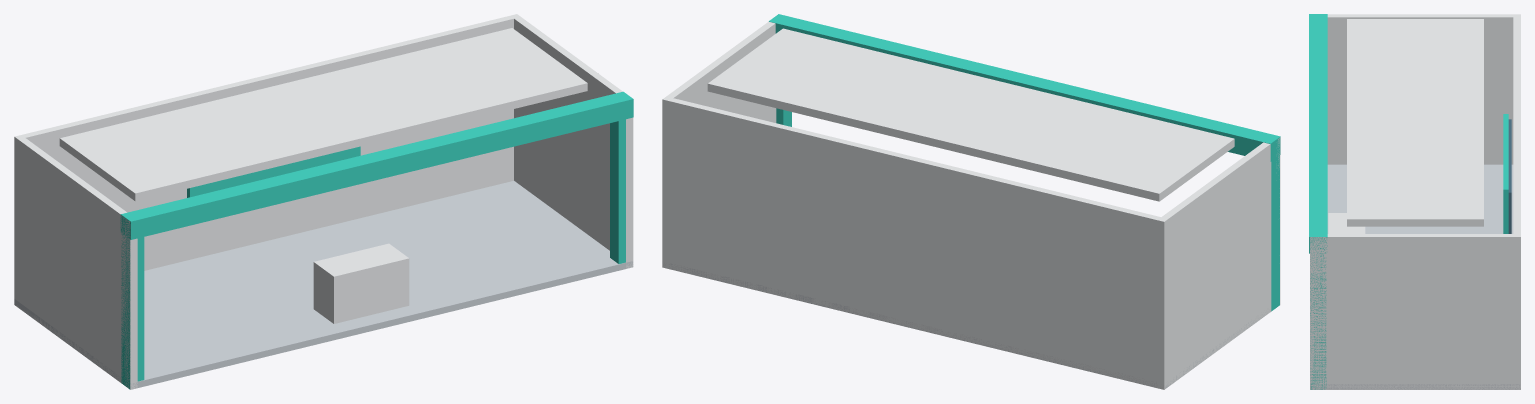
The picture shows the model from 3 angles, left to right: view 1: azimuth 30°, elevation 25°; view 2: azimuth 150°, elevation 25°; view 3: azimuth 270°, elevation 25°; orthographic projection. The views are drawn at different scales.
Visible parts, largest first — view 1: Exhibition Booth Concept; view 2: Exhibition Booth Concept; view 3: Exhibition Booth Concept.
Part boxes in pixels (x1,y1,x2,y2): Exhibition Booth Concept: [14, 14, 633, 389]; Exhibition Booth Concept: [662, 14, 1280, 389]; Exhibition Booth Concept: [1309, 14, 1520, 389].
Bounding box in the file's own units: 10 × 3.34 × 4.02.
